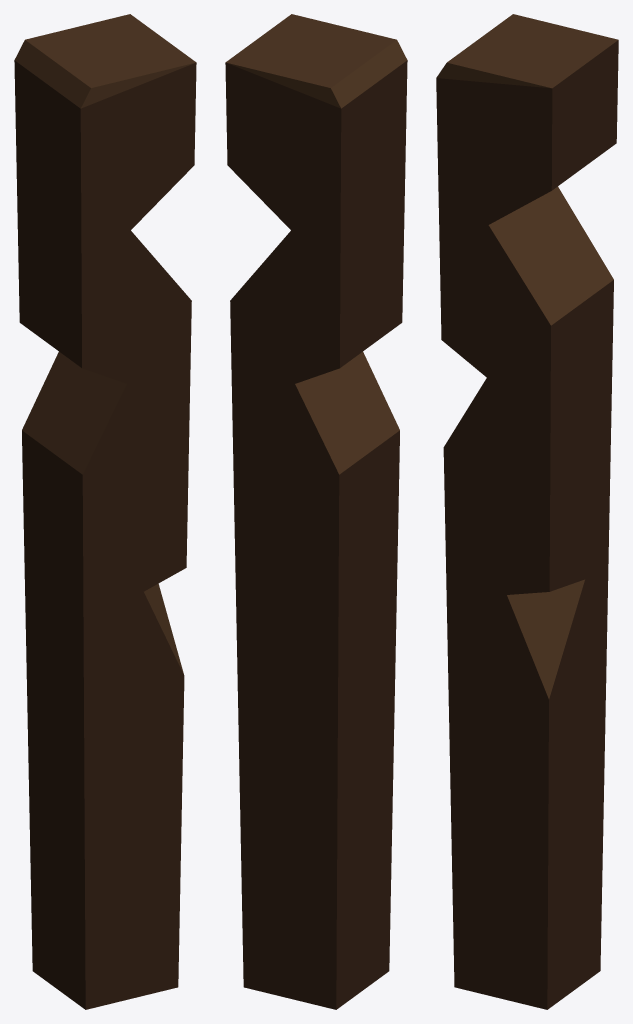
File: Cave_Lair_Wooden_Timber_Pole_03.fbx
The picture shows the model from 3 angles, left to right: view 1: azimuth 30°, elevation 25°; view 2: azimuth 150°, elevation 25°; view 3: azimuth 330°, elevation 25°; orthographic projection.
Parts seen in each view (by area): view 1: Cave_Lair_Wooden_Timber_Pole_03; view 2: Cave_Lair_Wooden_Timber_Pole_03; view 3: Cave_Lair_Wooden_Timber_Pole_03.
Part boxes in pixels (x1,y1,x2,y2): Cave_Lair_Wooden_Timber_Pole_03: (14, 14, 196, 1009); Cave_Lair_Wooden_Timber_Pole_03: (225, 14, 407, 1009); Cave_Lair_Wooden_Timber_Pole_03: (436, 14, 618, 1009).
Size of the model in its own units: 0.1815 by 1.39 by 0.1798.
